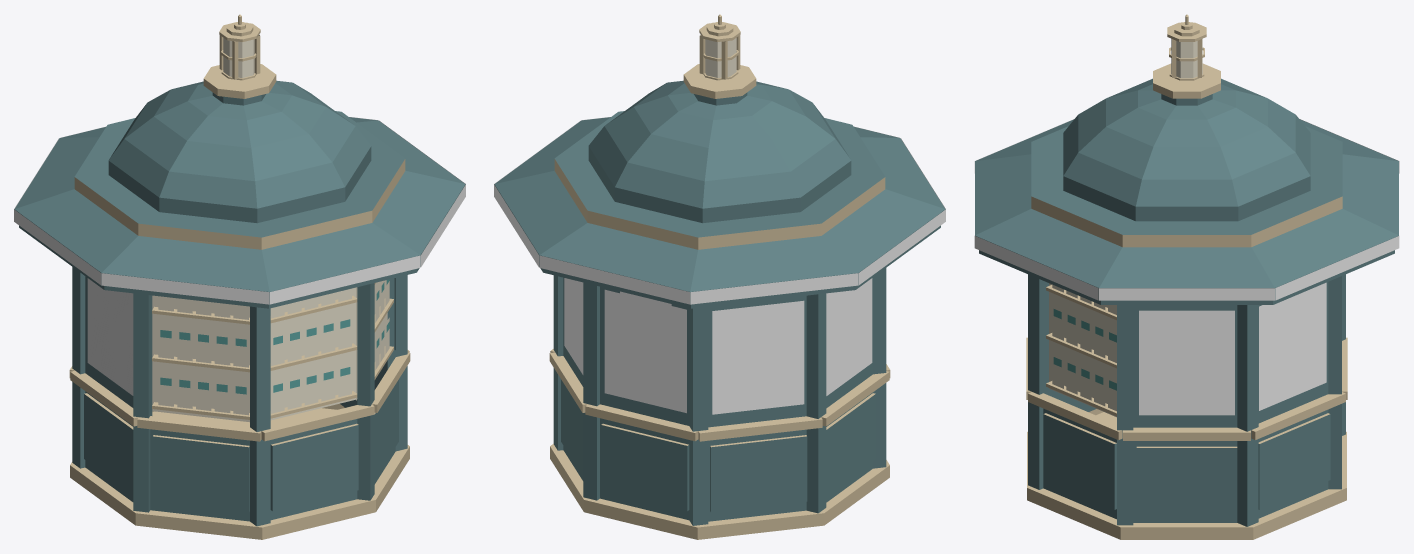
The model's file is KC32__AD_Ext_Kiosk_News.glb.
3 renders of one model, left to right at view 1: azimuth 30°, elevation 25°; view 2: azimuth 150°, elevation 25°; view 3: azimuth 270°, elevation 25°, orthographic.
Parts seen in each view (by area): view 1: KC32_CORPS__AD_Ext_Kiosk_News, KC32_BRONZE__AD_Ext_Kiosk_News, KC32_LUMIERE__AD_Ext_Kiosk_News, KC32_ACCENT__AD_Ext_Kiosk_News; view 2: KC32_CORPS__AD_Ext_Kiosk_News, KC32_ACCENT__AD_Ext_Kiosk_News, KC32_BRONZE__AD_Ext_Kiosk_News, KC32_LUMIERE__AD_Ext_Kiosk_News; view 3: KC32_CORPS__AD_Ext_Kiosk_News, KC32_ACCENT__AD_Ext_Kiosk_News, KC32_BRONZE__AD_Ext_Kiosk_News, KC32_LUMIERE__AD_Ext_Kiosk_News.
Boxes of the visible parts, box(x1,y1,x2,y2) form: KC32_CORPS__AD_Ext_Kiosk_News: box(14, 80, 465, 526); KC32_BRONZE__AD_Ext_Kiosk_News: box(69, 14, 410, 539); KC32_LUMIERE__AD_Ext_Kiosk_News: box(152, 38, 389, 422); KC32_ACCENT__AD_Ext_Kiosk_News: box(14, 117, 465, 395); KC32_CORPS__AD_Ext_Kiosk_News: box(494, 80, 945, 525); KC32_ACCENT__AD_Ext_Kiosk_News: box(494, 117, 945, 414); KC32_BRONZE__AD_Ext_Kiosk_News: box(549, 14, 890, 539); KC32_LUMIERE__AD_Ext_Kiosk_News: box(705, 38, 736, 77); KC32_CORPS__AD_Ext_Kiosk_News: box(975, 78, 1398, 526); KC32_ACCENT__AD_Ext_Kiosk_News: box(974, 119, 1399, 415); KC32_BRONZE__AD_Ext_Kiosk_News: box(1026, 14, 1347, 539); KC32_LUMIERE__AD_Ext_Kiosk_News: box(1049, 39, 1202, 417).
Size of the model in its own units: 3.69 by 4.38 by 3.69.
